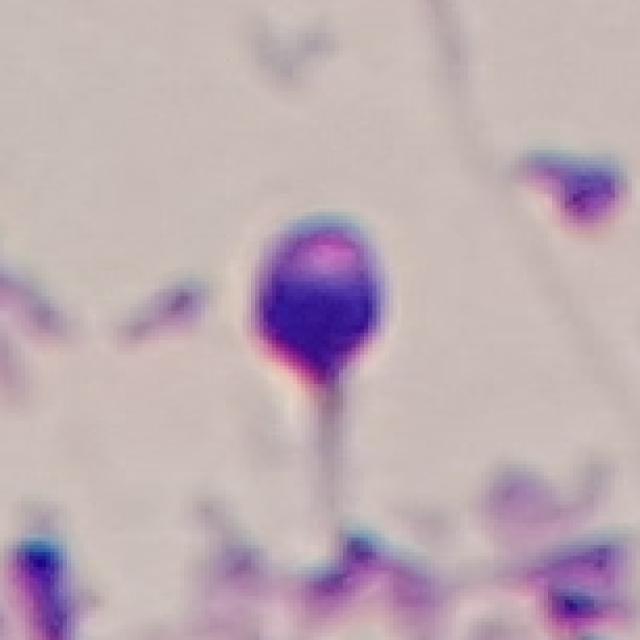normal sperm: (243, 214, 389, 461)
